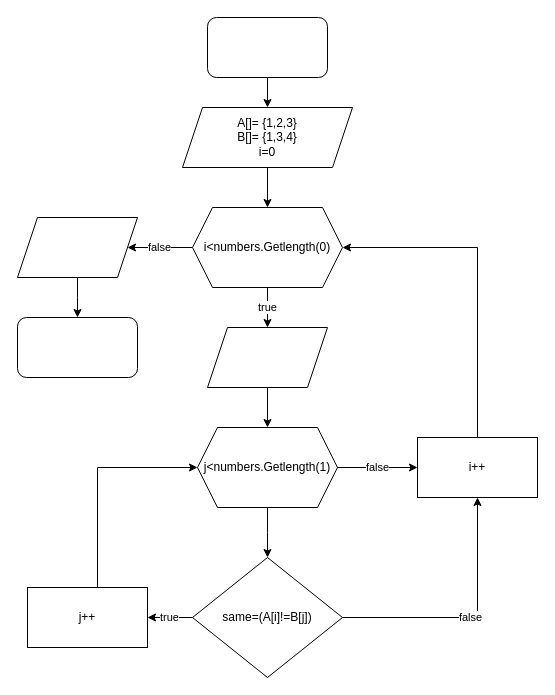
The diagram is 555 pixels wide and 695 high, and some of its shapes have lost their labels. Here are the shapes that lost their labels. From the top down, the centre of each, then its label:
[267,47]: start
[77,247]: print(same)
[267,357]: j=0
